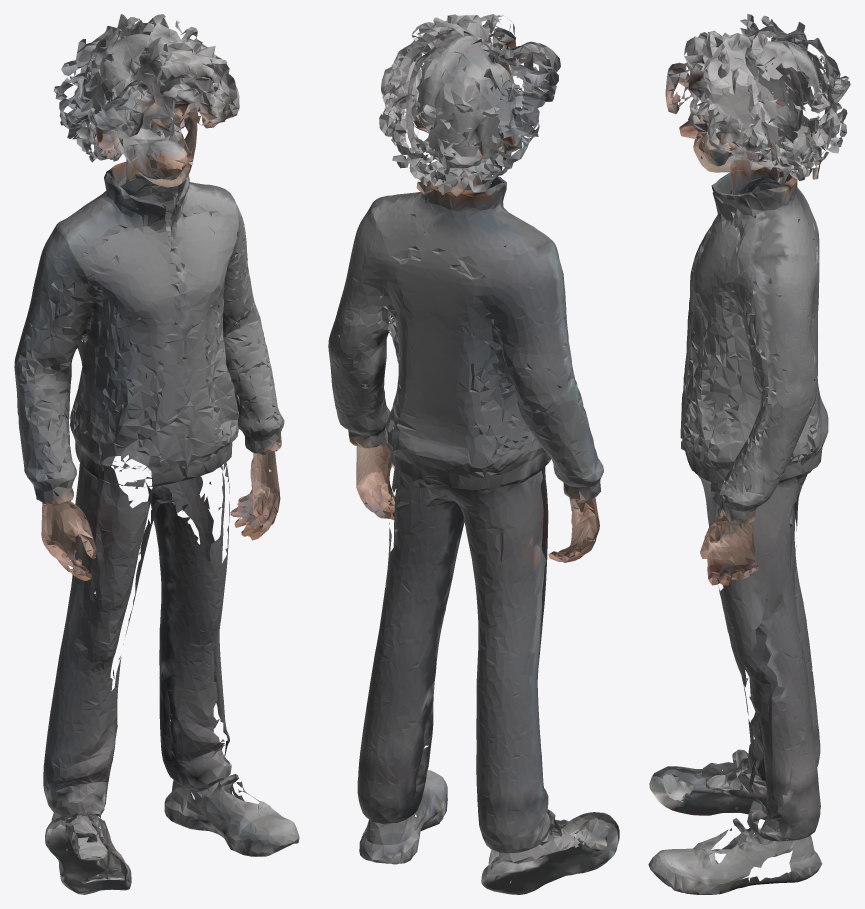
Rendered from karp.glb.
The picture shows the model from 3 angles, left to right: view 1: azimuth 30°, elevation 25°; view 2: azimuth 150°, elevation 25°; view 3: azimuth 270°, elevation 25°; orthographic projection. The views are drawn at different scales.
Size of the model in its own units: 0.5547 by 1.73 by 0.3875.
